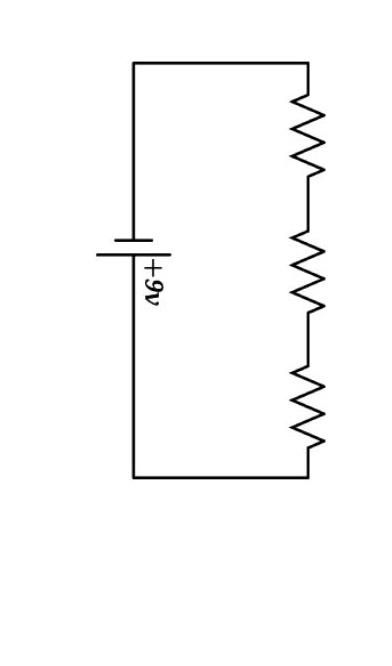resistor: (271, 68, 357, 180), (265, 355, 352, 461), (272, 216, 346, 322)
